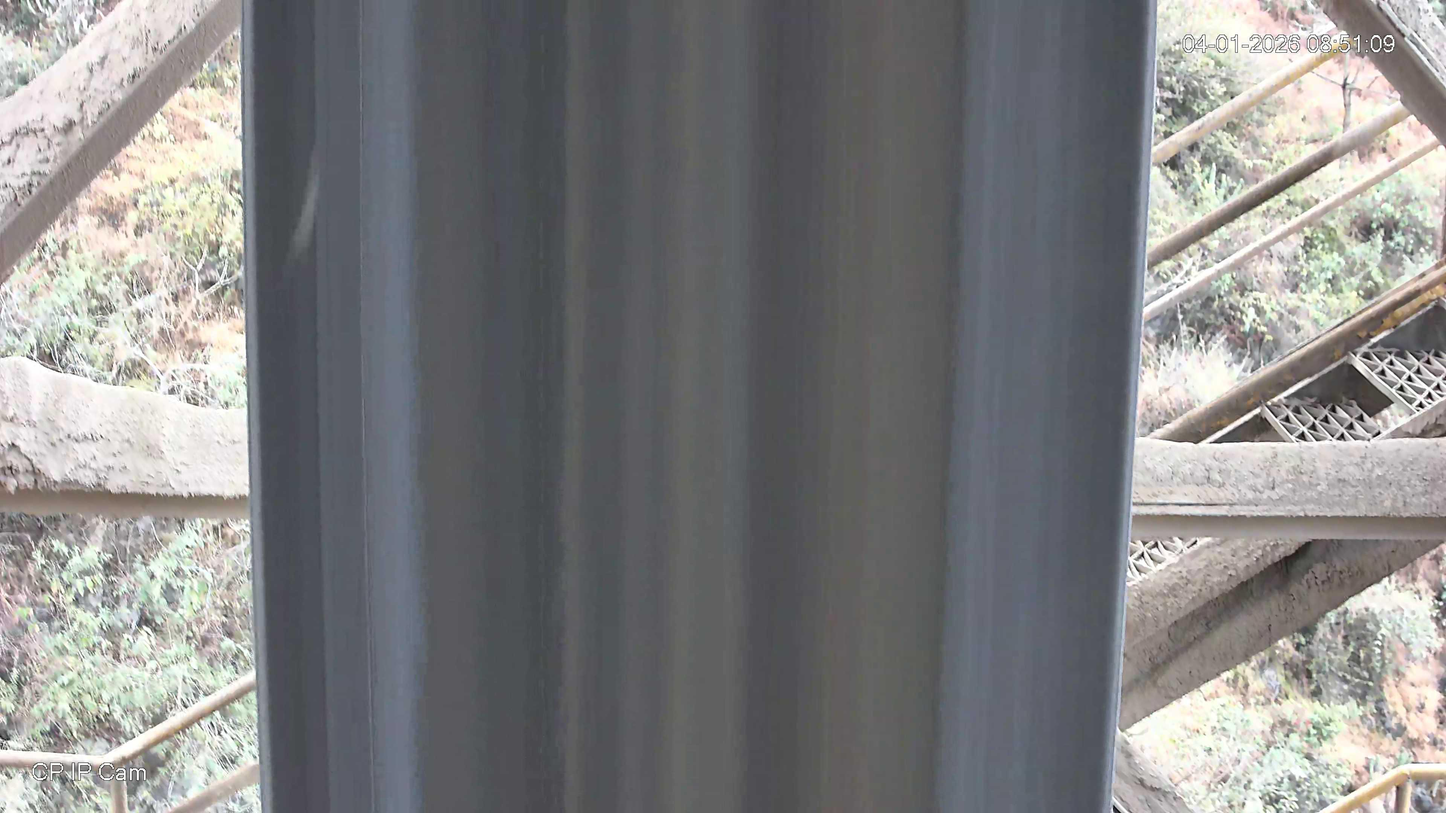belt_roi: (241, 0, 1160, 813)
